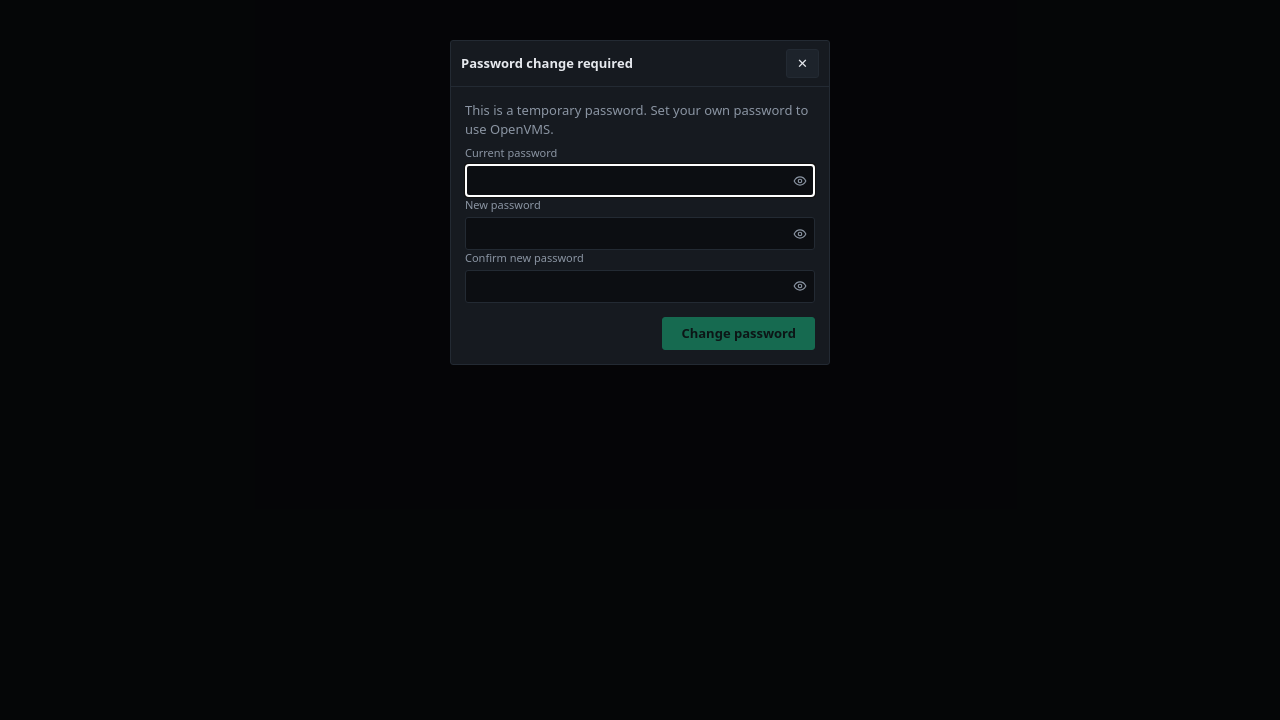
Test: forced password change (spec §7.1.4) › shows only the modal and then releases the shell with the new token
The image size is (1280, 720).
Expected: the text "Password change required" is shown, [461,54,633,73]
Type "Temp-1" into the password field labelled "Current password" at (640, 181), box [465,164,815,197]
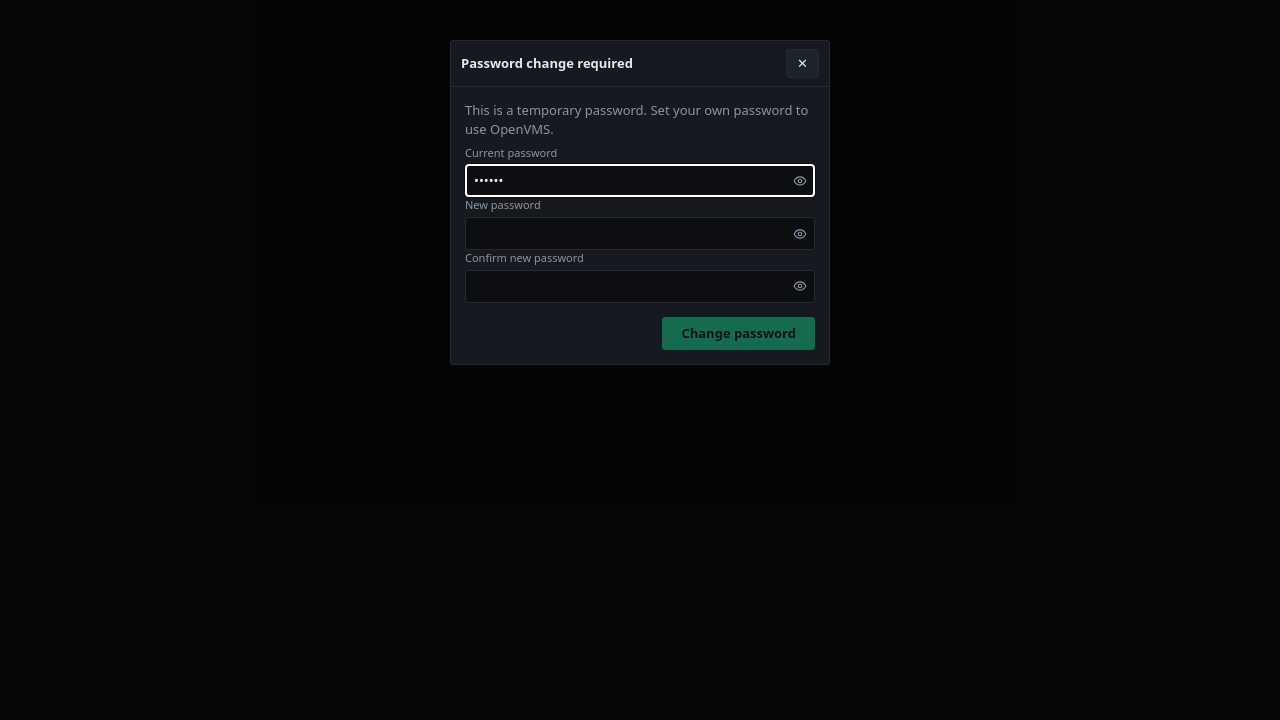
Type "senha-nova-longa" into the password field labelled "New password" at (640, 234), box [465,217,815,250]
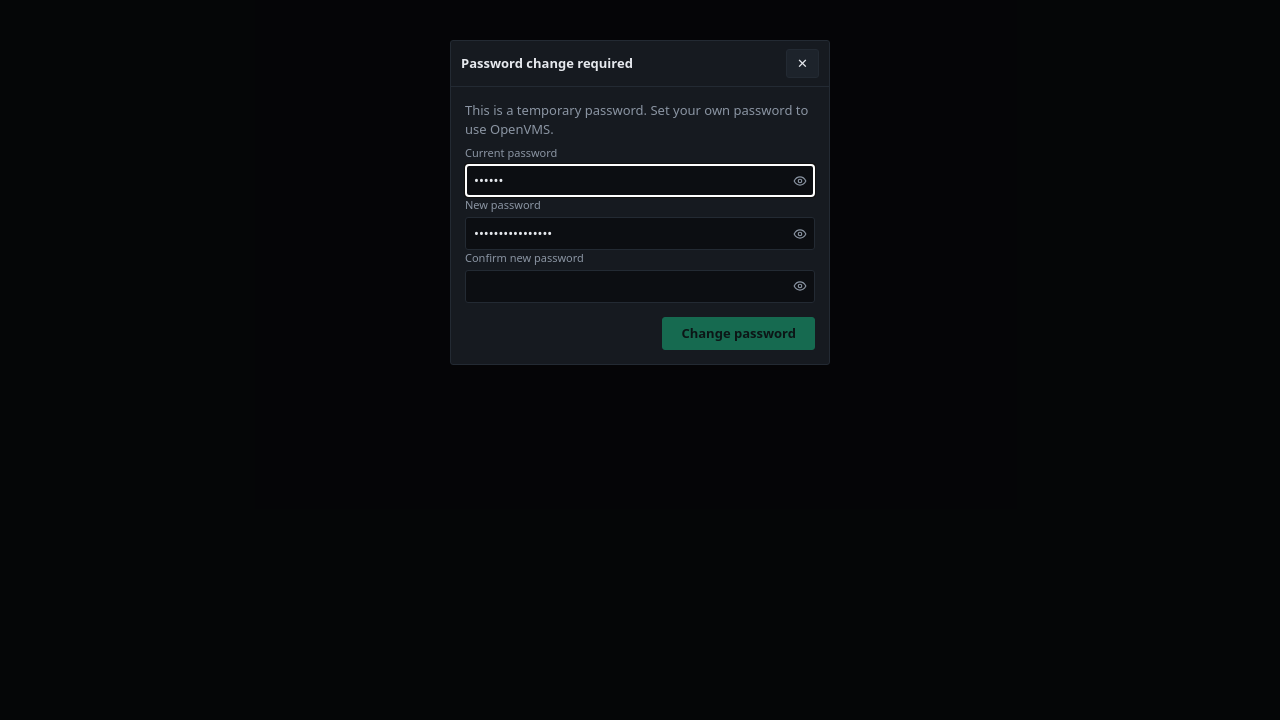
Type "senha-nova-longa" into the password field labelled "Confirm new password" at (640, 286), box [465,270,815,303]
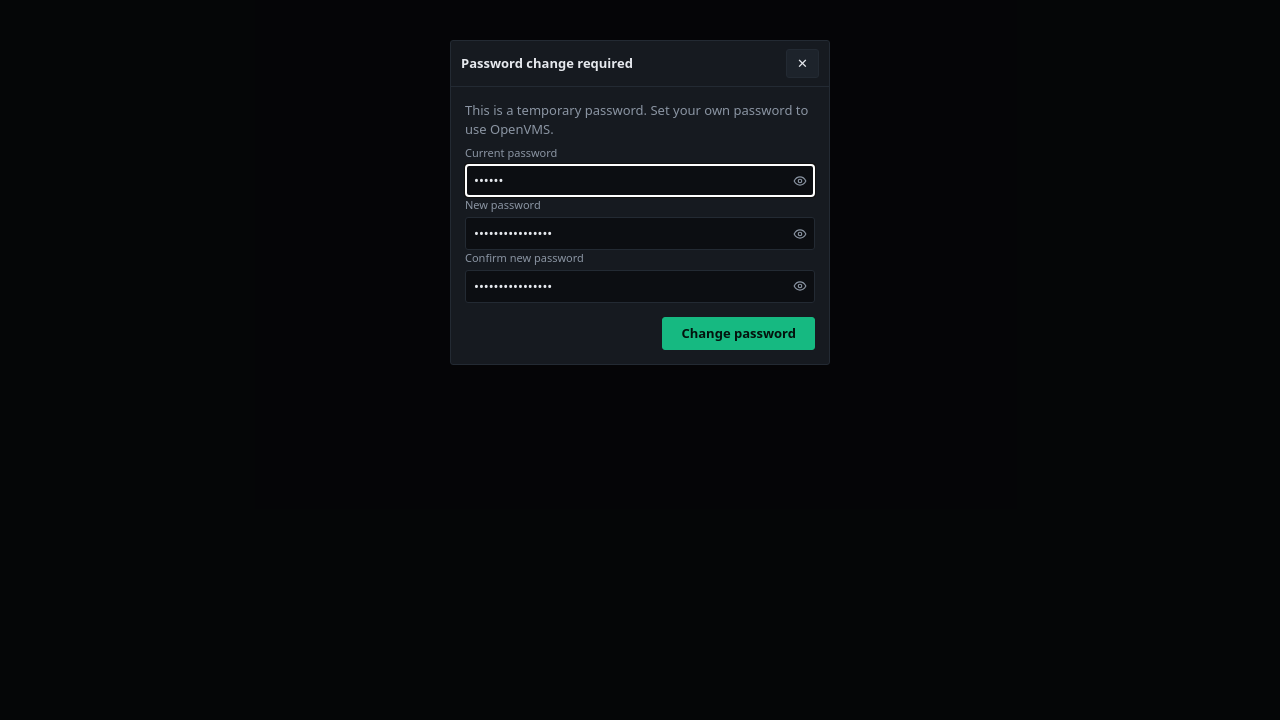
Click the button "Change password" at (739, 333), box [662,317,815,350]
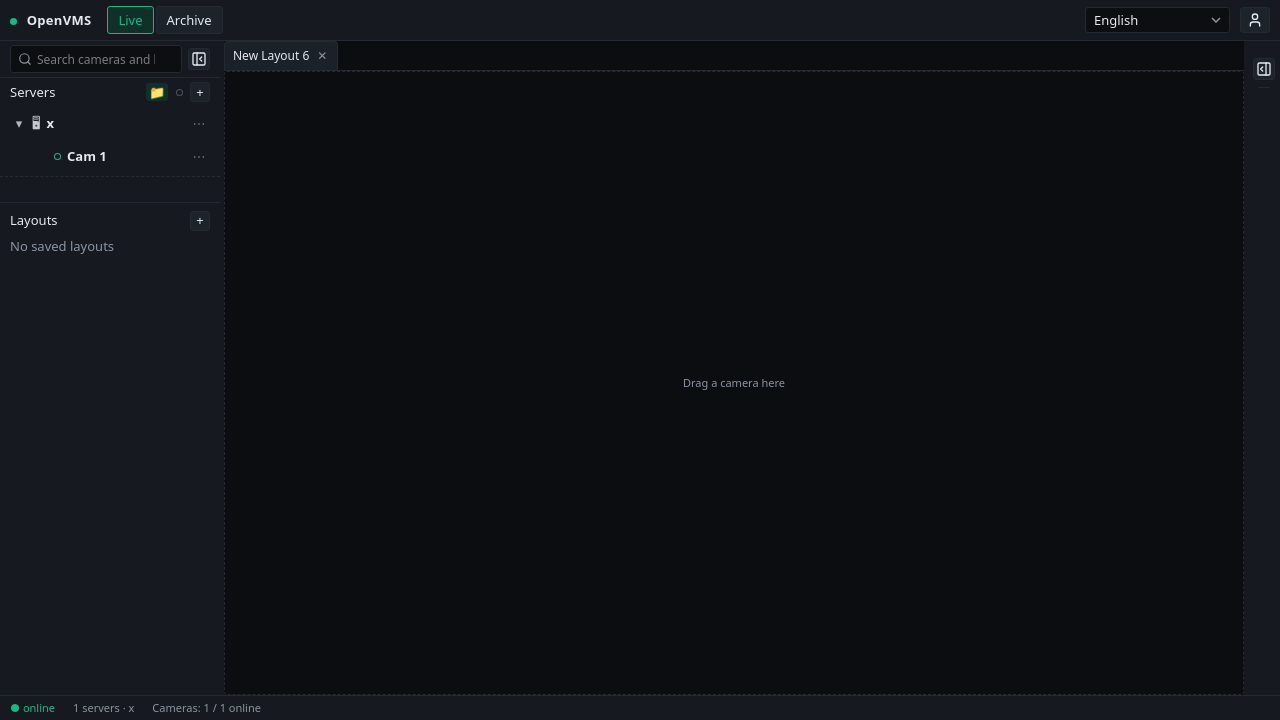
Expected: the element with class "shell" is shown
